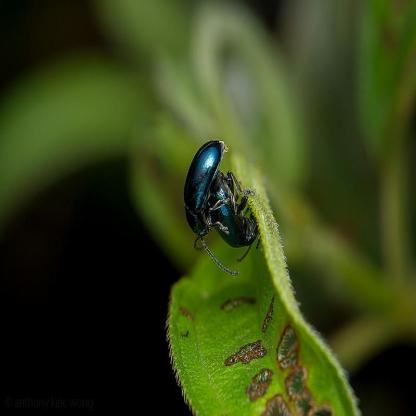beetle: (204, 170, 262, 256), (180, 139, 226, 242)
